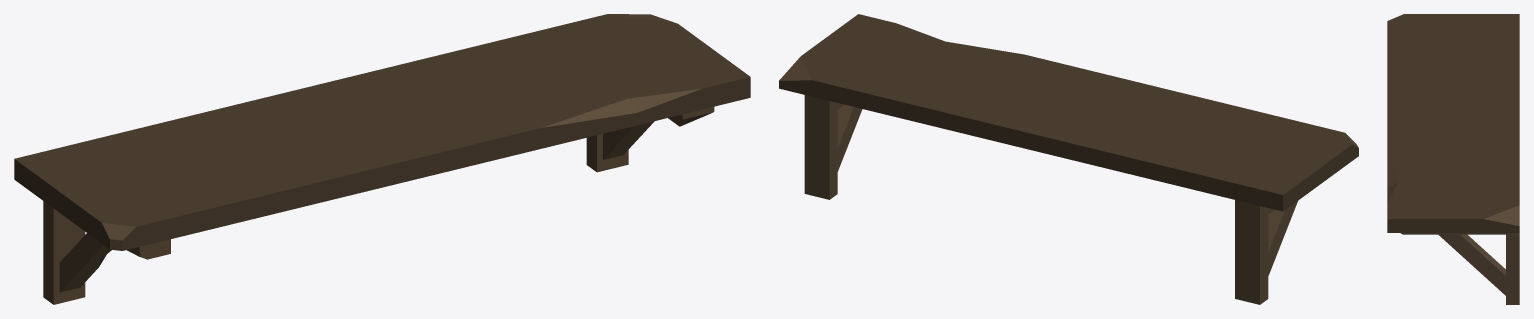
Rendered from SM_Gen_Prop_Shelf_01.obj.
3 renders of one model, left to right at view 1: azimuth 30°, elevation 25°; view 2: azimuth 150°, elevation 25°; view 3: azimuth 270°, elevation 25°, orthographic. The views are drawn at different scales.
Visible parts, largest first — view 1: SM_Gen_Prop_Shelf_01_0; view 2: SM_Gen_Prop_Shelf_01_0; view 3: SM_Gen_Prop_Shelf_01_0.
Part boxes in pixels (box(x1,y1,x2,y2)): SM_Gen_Prop_Shelf_01_0: box(14, 14, 750, 304); SM_Gen_Prop_Shelf_01_0: box(779, 14, 1358, 304); SM_Gen_Prop_Shelf_01_0: box(1387, 14, 1519, 304).
Size of the model in its own units: 1.6 by 0.3511 by 0.4375.
1 material, 1 textured.
